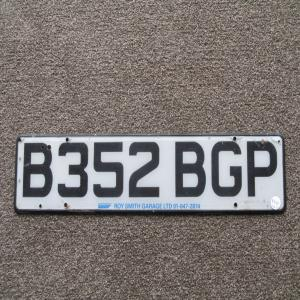Vehicle-registration-plate: (10, 132, 292, 218)
